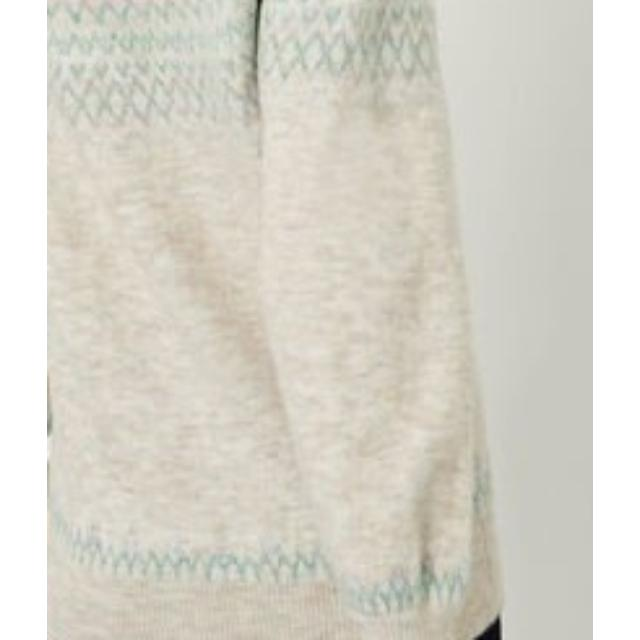polyester: (47, 0, 413, 640)
